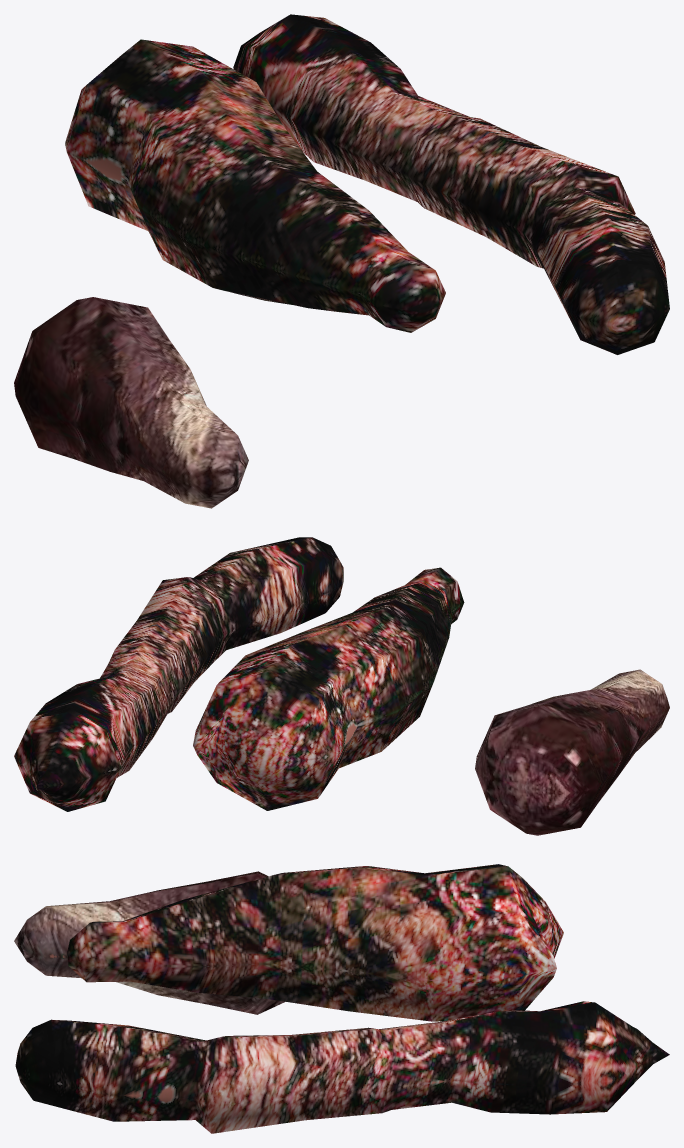
The model's file is zicao.FBX.
3 views of the same model, one above another, from view 1: azimuth 30°, elevation 25°; view 2: azimuth 150°, elevation 25°; view 3: azimuth 270°, elevation 25° (orthographic). The views are drawn at different scales.
Visible parts, largest first — view 1: Cylinder002, Cylinder001, Cylinder003; view 2: Cylinder002, Cylinder001, Cylinder003; view 3: Cylinder001, Cylinder002, Cylinder003.
Boxes of the visible parts, <box> form: Cylinder002: <box>65,39,445,332</box>; Cylinder001: <box>233,14,669,354</box>; Cylinder003: <box>14,297,248,508</box>; Cylinder002: <box>193,567,464,810</box>; Cylinder001: <box>14,537,343,811</box>; Cylinder003: <box>475,669,669,835</box>; Cylinder001: <box>15,1001,669,1133</box>; Cylinder002: <box>67,864,563,1021</box>; Cylinder003: <box>14,871,285,1014</box>.
Bounding box in the file's own units: 43.16 × 18.48 × 48.41.
